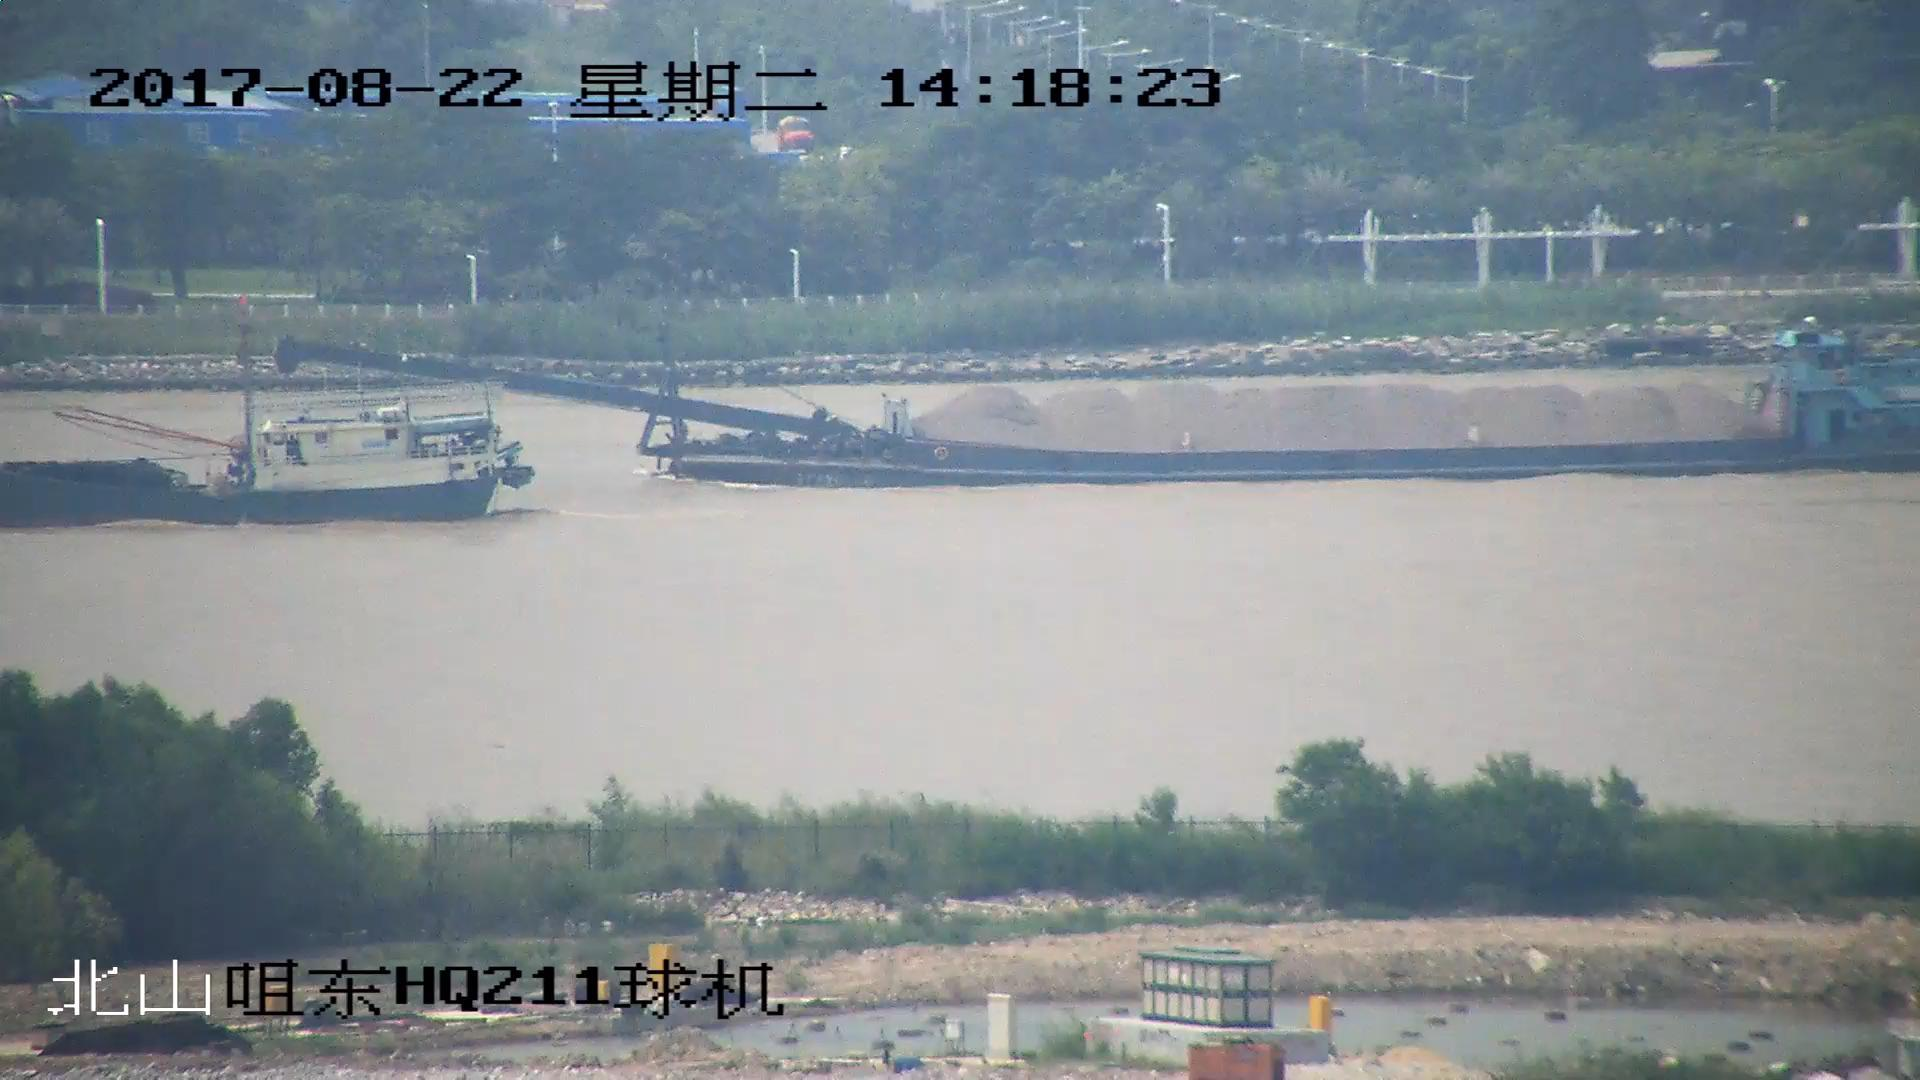Ship: (280, 316, 1920, 483), (3, 293, 539, 525)
